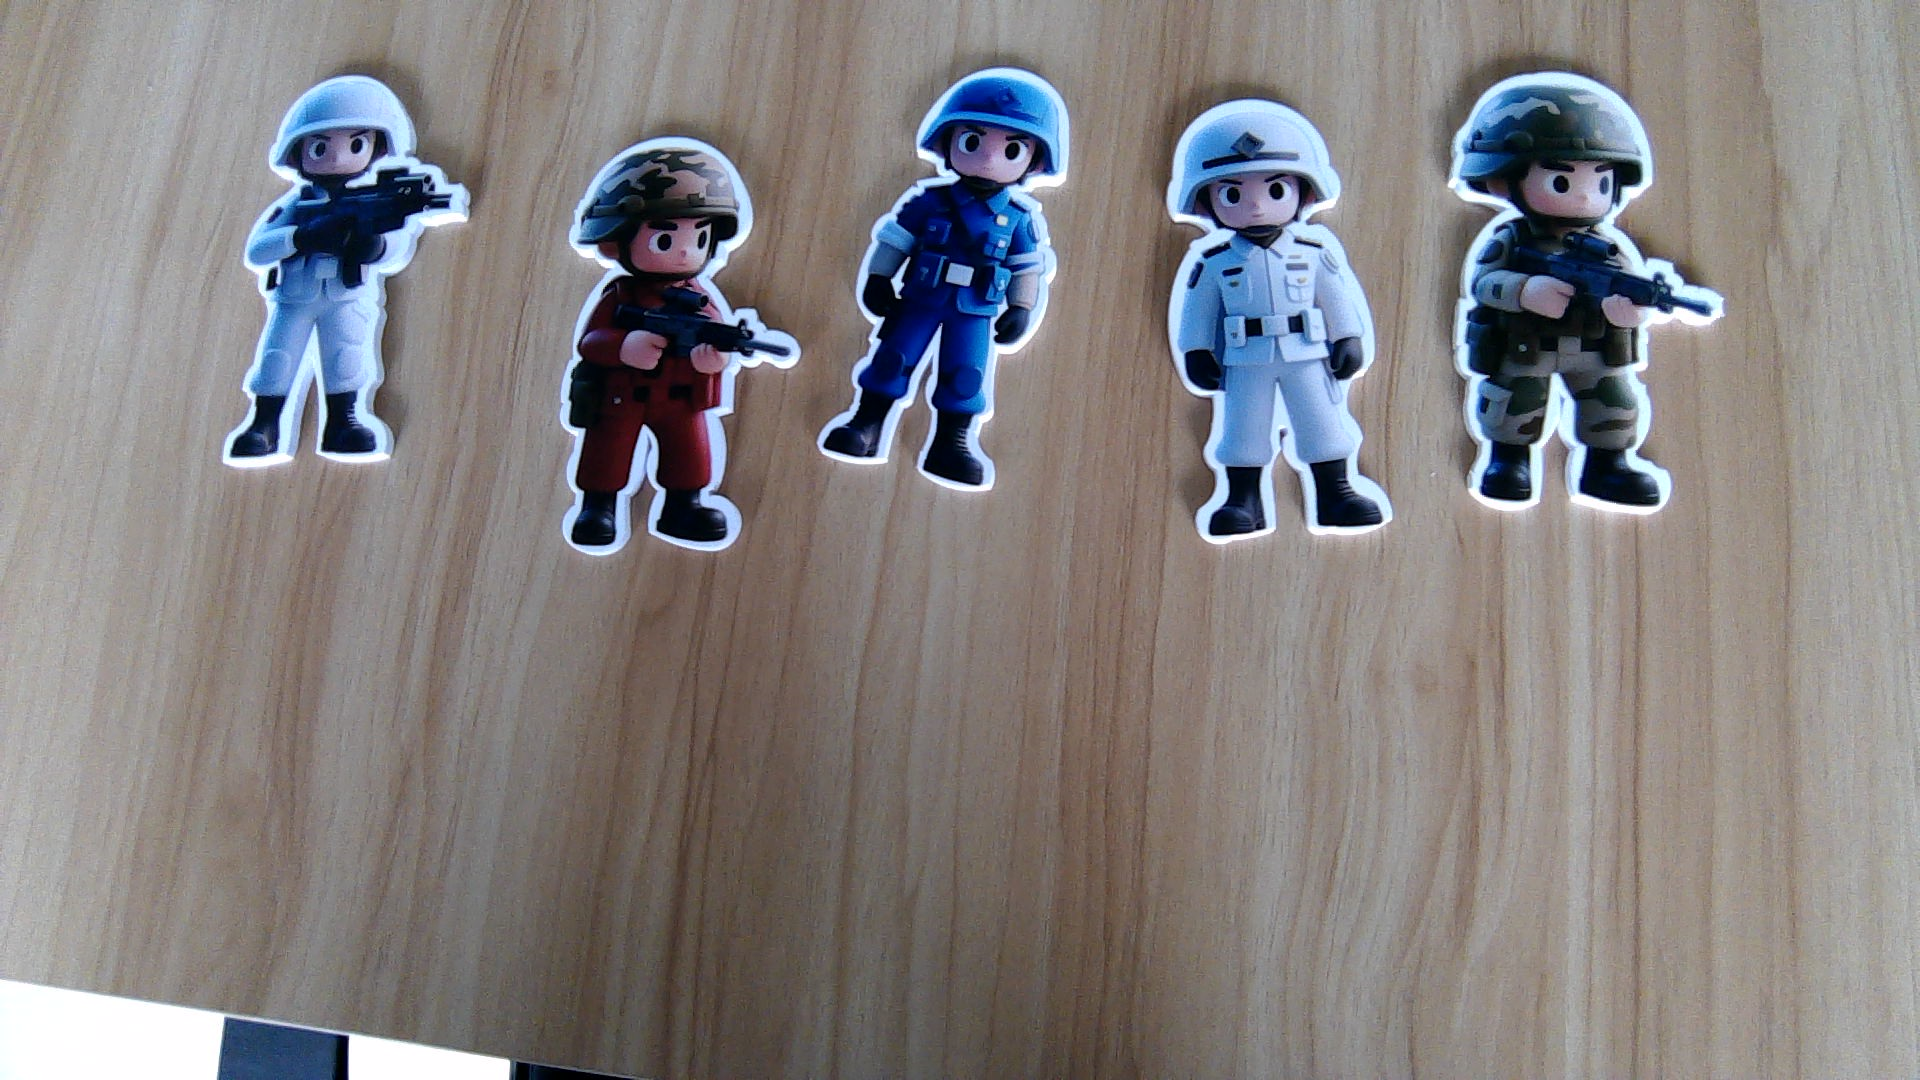人质: (1166, 231, 1396, 543), (218, 186, 469, 465)
友军: (1448, 219, 1724, 522)
敌人1: (554, 282, 794, 558)
敌人2: (808, 186, 1062, 504)
